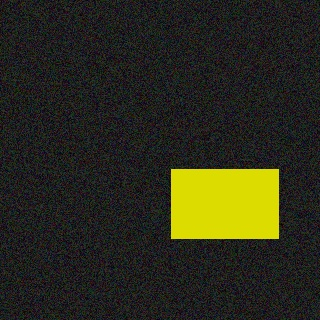yellow_barrel: (171, 169, 278, 238)
